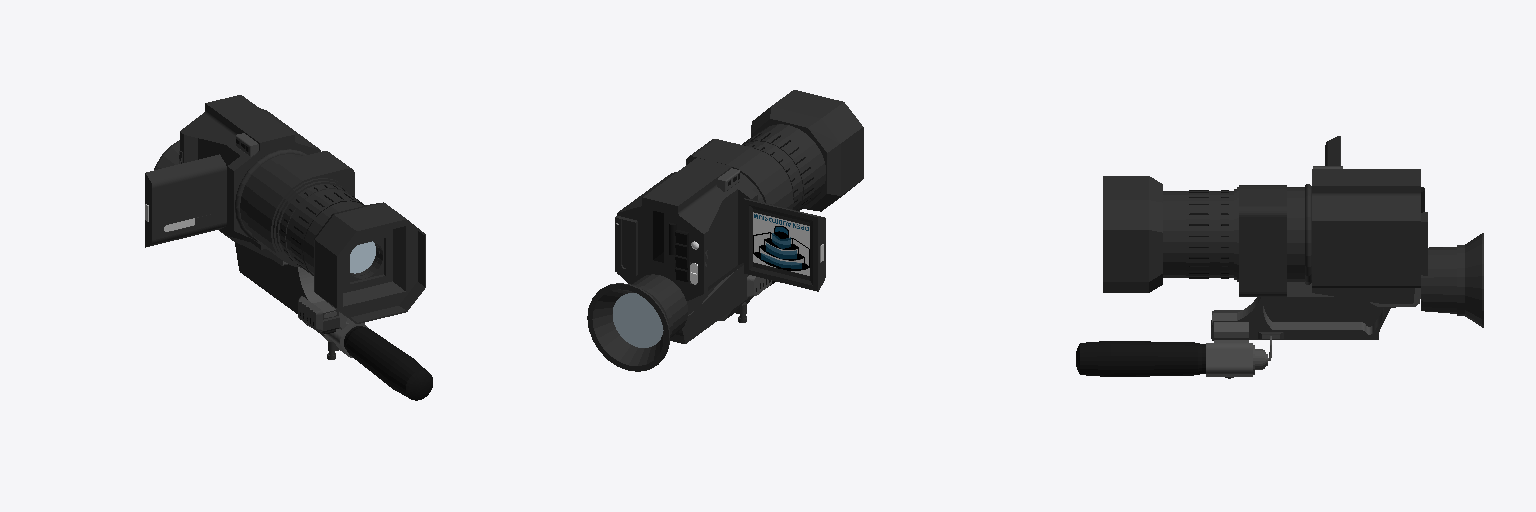
The picture shows the model from 3 angles: view 1: azimuth 30°, elevation 25°; view 2: azimuth 150°, elevation 25°; view 3: azimuth 270°, elevation 25°; orthographic projection.
Parts seen in each view (by area): view 1: Mesh69 Camera1 DRS_PD170P1 Composant1 Model, Mesh70 Camera1 DRS_PD170P1 Composant1 Model, Mesh50 Group49 Camera1 DRS_PD170P1 Composant1 Model, Mesh62 Group50 Camera1 DRS_PD170P1 Composant1 Model, Mesh2 Micro DRS_PD170P1 Composant1 Model, Mesh71 Camera1 DRS_PD170P1 Composant1 Model; view 2: Mesh69 Camera1 DRS_PD170P1 Composant1 Model, Mesh61 Group60 Group50 Camera1 DRS_PD170P1 Composant1 Model, Mesh70 Camera1 DRS_PD170P1 Composant1 Model, Mesh50 Group49 Camera1 DRS_PD170P1 Composant1 Model, Mesh51 Group49 Camera1 DRS_PD170P1 Composant1 Model, Mesh62 Group50 Camera1 DRS_PD170P1 Composant1 Model, Mesh71 Camera1 DRS_PD170P1 Composant1 Model, Mesh63 Group61 Camera1 DRS_PD170P1 Composant1 Model, Mesh65 Group63 Camera1 DRS_PD170P1 Composant1 Model; view 3: Mesh69 Camera1 DRS_PD170P1 Composant1 Model, Mesh70 Camera1 DRS_PD170P1 Composant1 Model, Mesh2 Micro DRS_PD170P1 Composant1 Model, Mesh62 Group50 Camera1 DRS_PD170P1 Composant1 Model, Mesh61 Group60 Group50 Camera1 DRS_PD170P1 Composant1 Model, Mesh71 Camera1 DRS_PD170P1 Composant1 Model.
Part boxes in pixels (x1,y1,x2,y2): Mesh69 Camera1 DRS_PD170P1 Composant1 Model: (179, 95, 354, 267); Mesh70 Camera1 DRS_PD170P1 Composant1 Model: (303, 201, 425, 323); Mesh50 Group49 Camera1 DRS_PD170P1 Composant1 Model: (145, 154, 226, 247); Mesh62 Group50 Camera1 DRS_PD170P1 Composant1 Model: (219, 230, 339, 335); Mesh2 Micro DRS_PD170P1 Composant1 Model: (323, 312, 432, 400); Mesh71 Camera1 DRS_PD170P1 Composant1 Model: (281, 185, 365, 275); Mesh69 Camera1 DRS_PD170P1 Composant1 Model: (617, 139, 793, 314); Mesh61 Group60 Group50 Camera1 DRS_PD170P1 Composant1 Model: (587, 274, 687, 371); Mesh70 Camera1 DRS_PD170P1 Composant1 Model: (751, 90, 863, 211); Mesh50 Group49 Camera1 DRS_PD170P1 Composant1 Model: (744, 198, 825, 291); Mesh51 Group49 Camera1 DRS_PD170P1 Composant1 Model: (753, 212, 809, 275); Mesh62 Group50 Camera1 DRS_PD170P1 Composant1 Model: (670, 265, 771, 343); Mesh71 Camera1 DRS_PD170P1 Composant1 Model: (742, 132, 815, 210); Mesh63 Group61 Camera1 DRS_PD170P1 Composant1 Model: (615, 216, 637, 276); Mesh65 Group63 Camera1 DRS_PD170P1 Composant1 Model: (675, 230, 688, 281); Mesh69 Camera1 DRS_PD170P1 Composant1 Model: (1229, 166, 1420, 303); Mesh70 Camera1 DRS_PD170P1 Composant1 Model: (1103, 176, 1185, 292); Mesh2 Micro DRS_PD170P1 Composant1 Model: (1076, 322, 1254, 378); Mesh62 Group50 Camera1 DRS_PD170P1 Composant1 Model: (1211, 282, 1420, 339); Mesh61 Group60 Group50 Camera1 DRS_PD170P1 Composant1 Model: (1421, 233, 1483, 327); Mesh71 Camera1 DRS_PD170P1 Composant1 Model: (1186, 191, 1228, 277).
Bounding box in the file's own units: 0.3175 × 0.3576 × 0.6865.
13 materials, 7 textured.